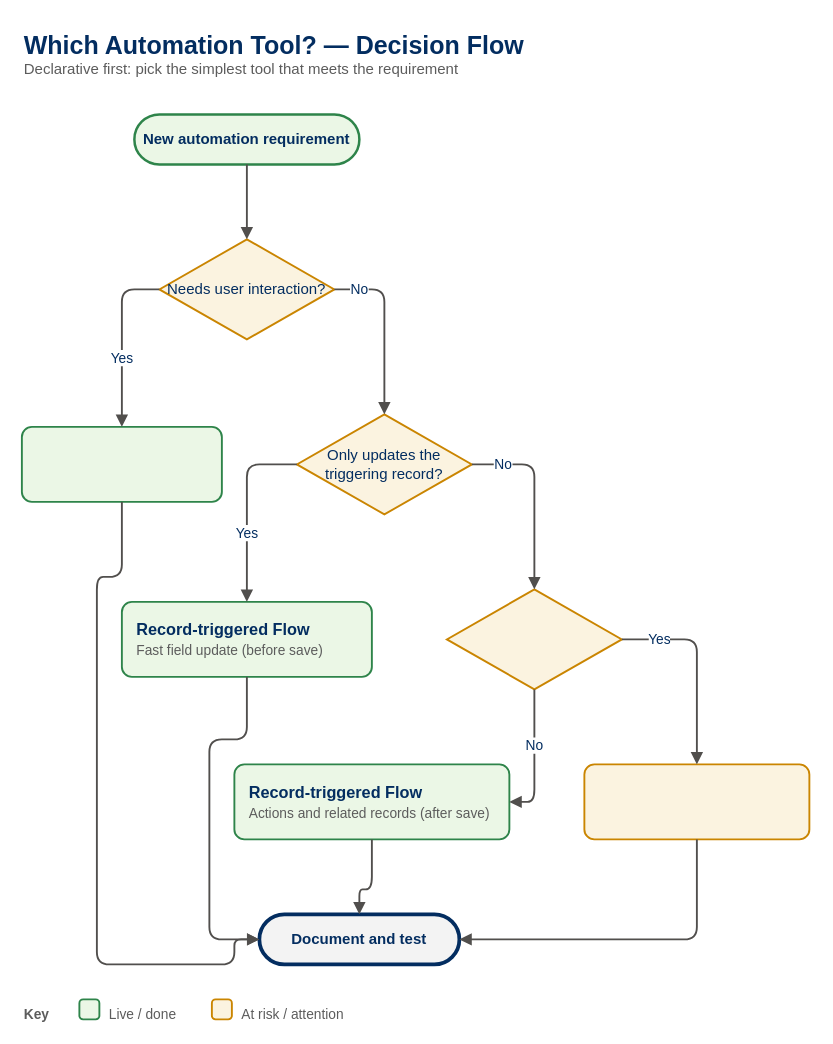
This 833x1044 diagram has some shape labels left out. Here are the shapes that lost their labels. From the top down, the centre of each, then its label:
At point (121, 463): "Screen Flow".
At point (533, 639): "Complex logic, bulk or callouts at scale?".
At point (696, 801): "Apex trigger + handler Invocable actions for reuse".
